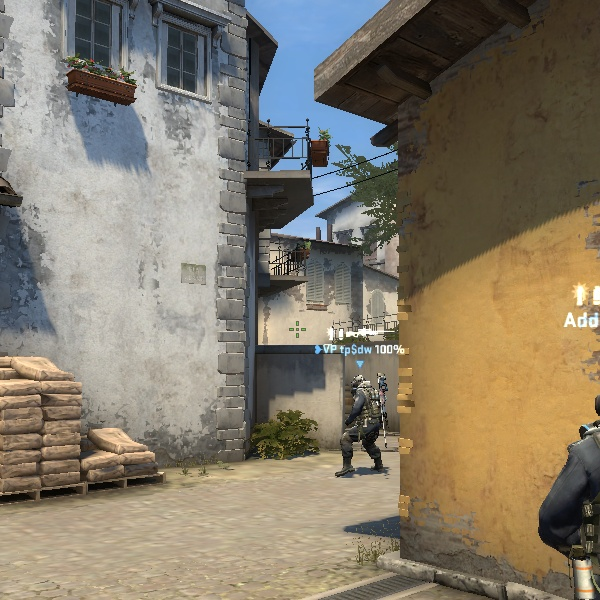ct_body: (332, 369, 393, 472)
